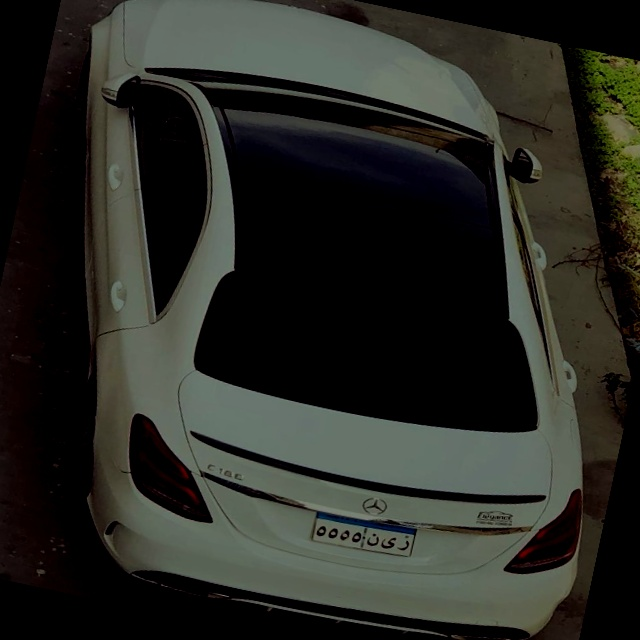License Plate: (309, 505, 422, 564)
